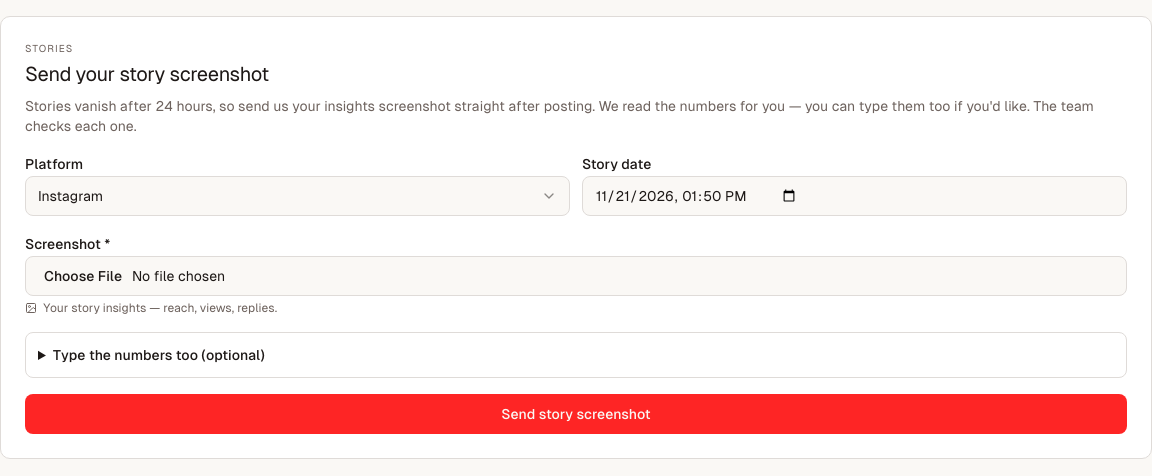
creator story step › sends the screenshot with the brief token and shows what was read
Earlier steps of the test are not shown.
Click the button "Send story screenshot": click(576, 414) [25, 394, 1127, 434]
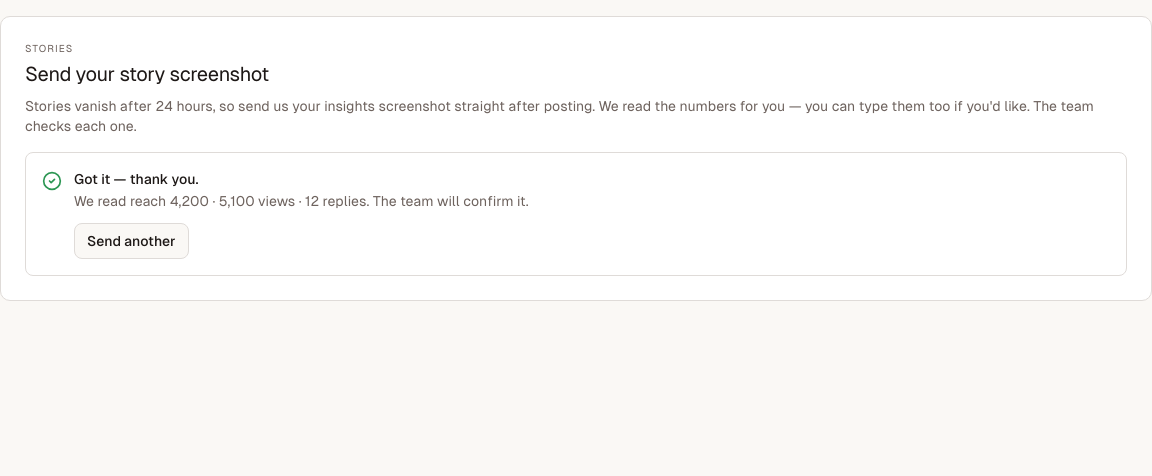
Result: the text "Got it — thank you." is shown at [74, 171, 198, 187]
Result: the text "reach 4,200" is shown at [74, 193, 529, 209]
